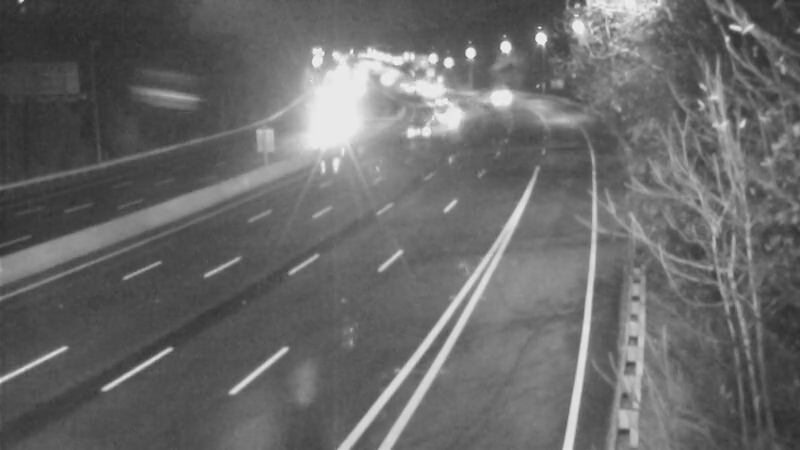vehicle: (399, 66, 449, 116), (478, 74, 528, 124), (413, 75, 463, 125), (426, 86, 476, 136), (399, 104, 449, 154), (303, 101, 353, 151)
